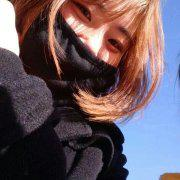WRONG: (34, 2, 133, 101)
